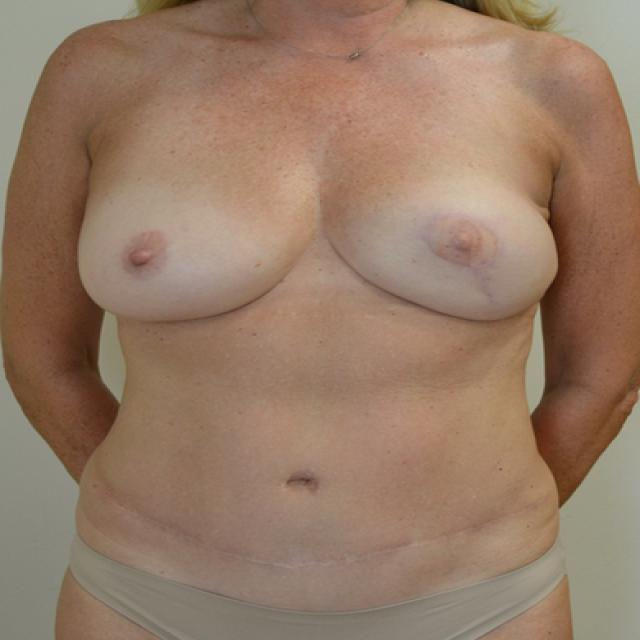Seno herido: (323, 135, 565, 346)
Seno ileso: (71, 137, 317, 344)
